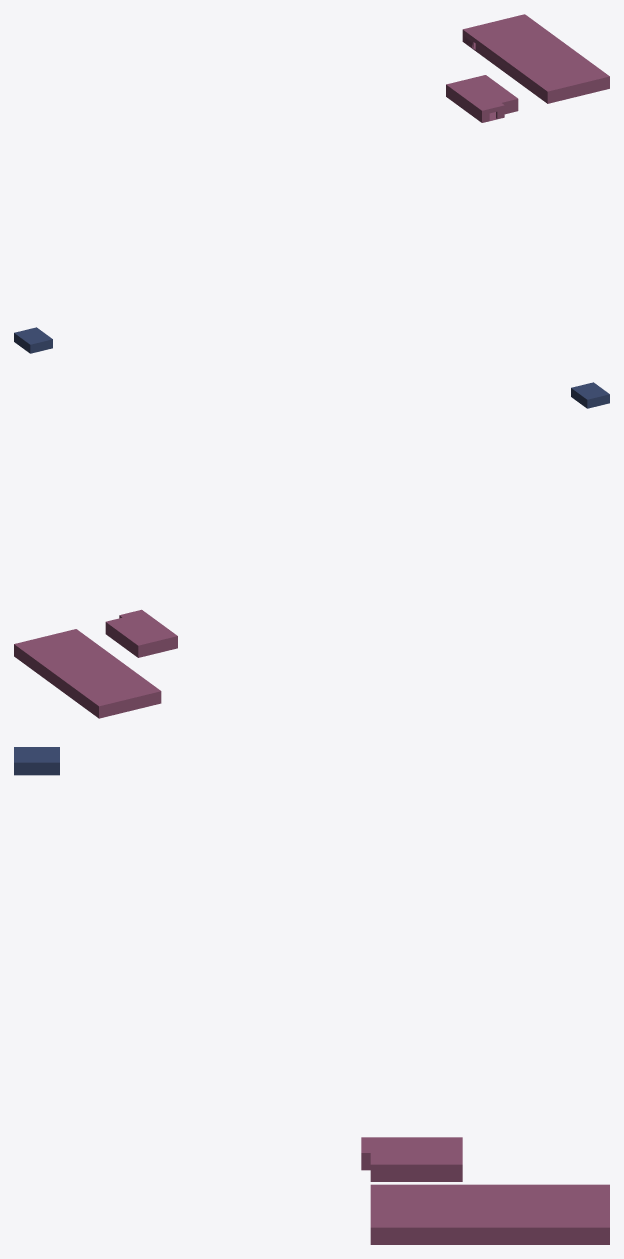
The model's file is Buildings_Important.fbx.
3 views of the same model, one above another, from view 1: azimuth 30°, elevation 25°; view 2: azimuth 210°, elevation 25°; view 3: azimuth 270°, elevation 25° (orthographic). The views are drawn at different scales.
Visible parts, largest first — view 1: SchoolRoof, SchoolBuilding, GymRoof, GymBuilding, PlayerHouseRoof; view 2: SchoolRoof, SchoolBuilding, GymRoof, GymBuilding, PlayerHouseRoof; view 3: SchoolRoof, SchoolBuilding, GymRoof, GymBuilding, PlayerHouseRoof.
Part boxes in pixels (box(x1,y1,x2,y2)): SchoolRoof: box(462, 14, 609, 93); SchoolBuilding: box(462, 31, 609, 103); GymRoof: box(446, 75, 518, 112); GymBuilding: box(446, 86, 518, 122); PlayerHouseRoof: box(14, 327, 52, 346); SchoolRoof: box(14, 629, 161, 707); SchoolBuilding: box(14, 646, 161, 718); GymRoof: box(105, 609, 177, 647); GymBuilding: box(105, 617, 177, 657); PlayerHouseRoof: box(571, 382, 609, 401); SchoolRoof: box(370, 1184, 609, 1230); SchoolBuilding: box(370, 1230, 609, 1244); GymRoof: box(361, 1137, 462, 1167); GymBuilding: box(361, 1155, 462, 1181); PlayerHouseRoof: box(14, 747, 59, 765).
Bounding box in the file's own units: 1402 × 23.34 × 728.
